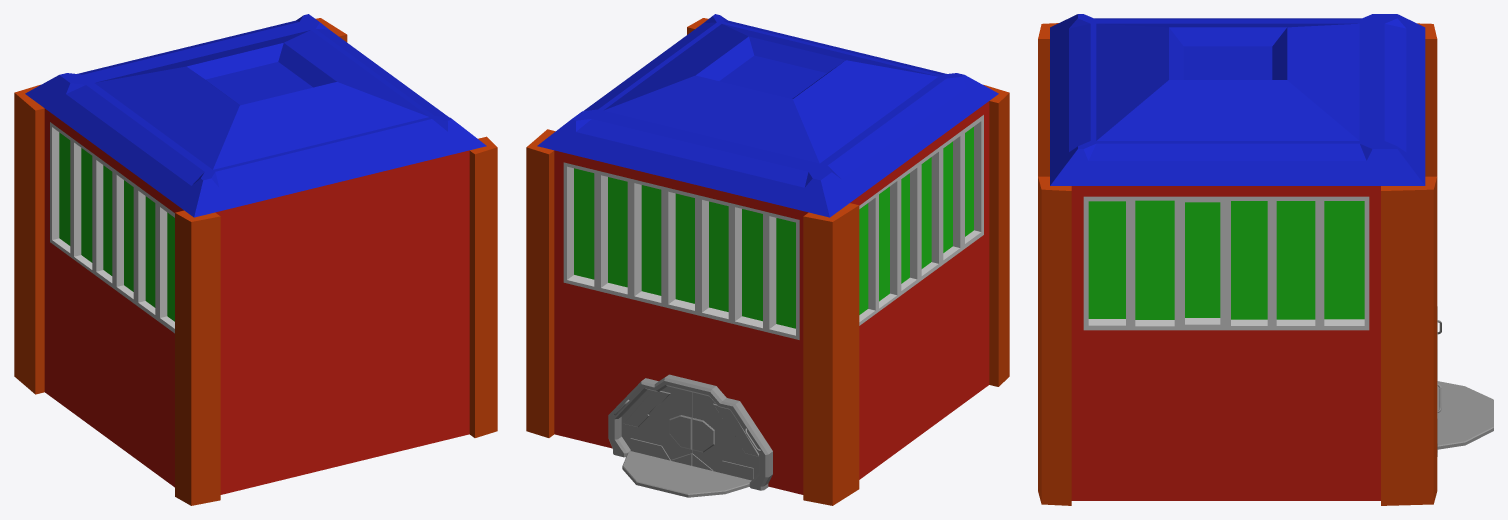
File: Batiment.dae
3 views of the same model, side by side, from view 1: azimuth 30°, elevation 25°; view 2: azimuth 150°, elevation 25°; view 3: azimuth 270°, elevation 25° (orthographic). The views are drawn at different scales.
Parts seen in each view (by area): view 1: Cube.044_Cube.045 (×5); view 2: Cube.044_Cube.045 (×5), Contour_meshId0_name, Plane002_meshId6_name, portegauche_meshId4_name, portedroite_meshId1_name, Line004_meshId5_name, Line005_meshId9_name, Box003_meshId8_name, Box002_meshId7_name; view 3: Cube.044_Cube.045 (×5), Plane002_meshId6_name.
Part boxes in pixels (box(x1,y1,x2,y2)): Cube.044_Cube.045 (×5): box(14, 14, 497, 505); Cube.044_Cube.045 (×5): box(526, 14, 1009, 505); Contour_meshId0_name: box(608, 374, 772, 490); Plane002_meshId6_name: box(622, 451, 751, 497); portegauche_meshId4_name: box(621, 386, 692, 465); portedroite_meshId1_name: box(692, 392, 758, 480); Line004_meshId5_name: box(623, 390, 670, 427); Line005_meshId9_name: box(713, 403, 758, 456); Box003_meshId8_name: box(692, 418, 714, 452); Box002_meshId7_name: box(669, 415, 691, 449); Cube.044_Cube.045 (×5): box(1038, 14, 1437, 505); Plane002_meshId6_name: box(1437, 381, 1493, 449).
Bounding box in the file's own units: 12.83 × 13.11 × 14.66.
